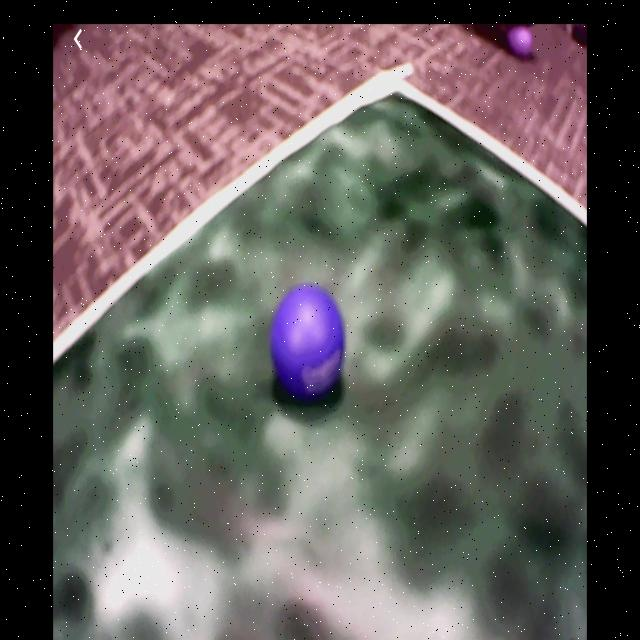ball: (271, 283, 345, 398), (509, 28, 534, 63)
